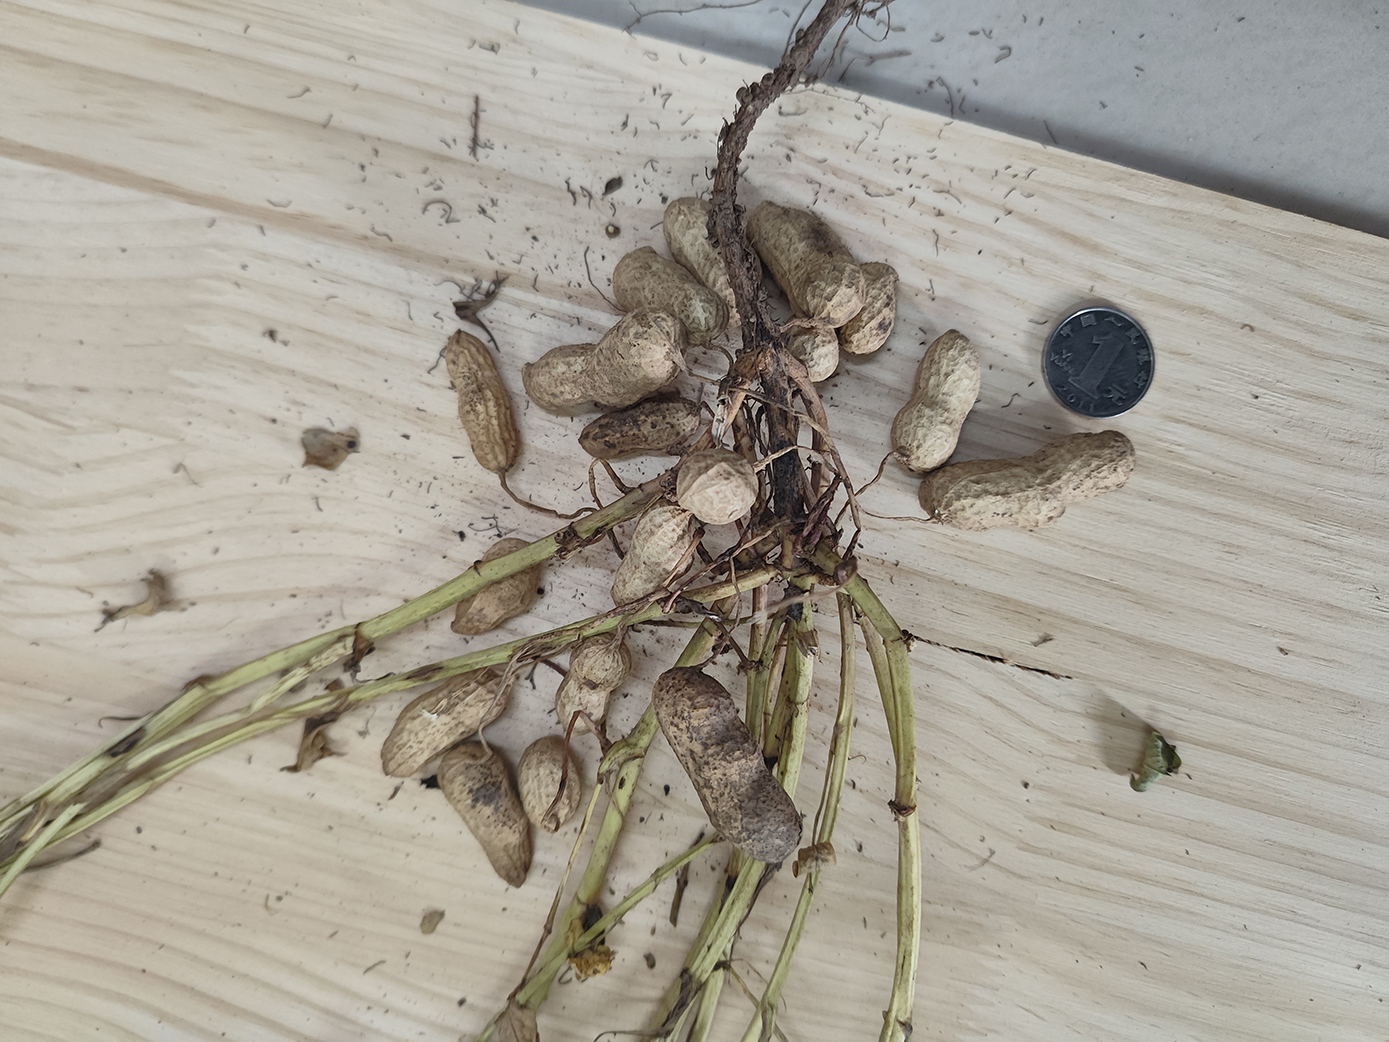h: (921, 431, 1133, 532), (522, 309, 679, 409), (382, 669, 516, 780), (752, 201, 865, 327), (439, 743, 531, 892), (892, 329, 981, 473), (663, 197, 762, 325), (612, 245, 724, 346), (445, 329, 519, 474), (450, 537, 536, 638), (611, 503, 696, 604), (556, 634, 630, 736), (578, 400, 705, 455), (521, 737, 586, 835), (679, 450, 756, 525), (837, 262, 898, 355), (780, 316, 841, 384)
l: (652, 667, 803, 862)
